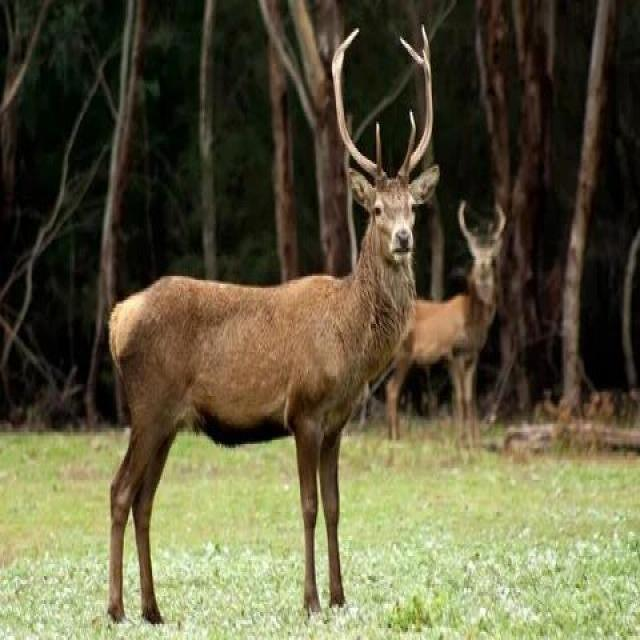deer: (78, 99, 479, 588), (408, 168, 531, 408)
